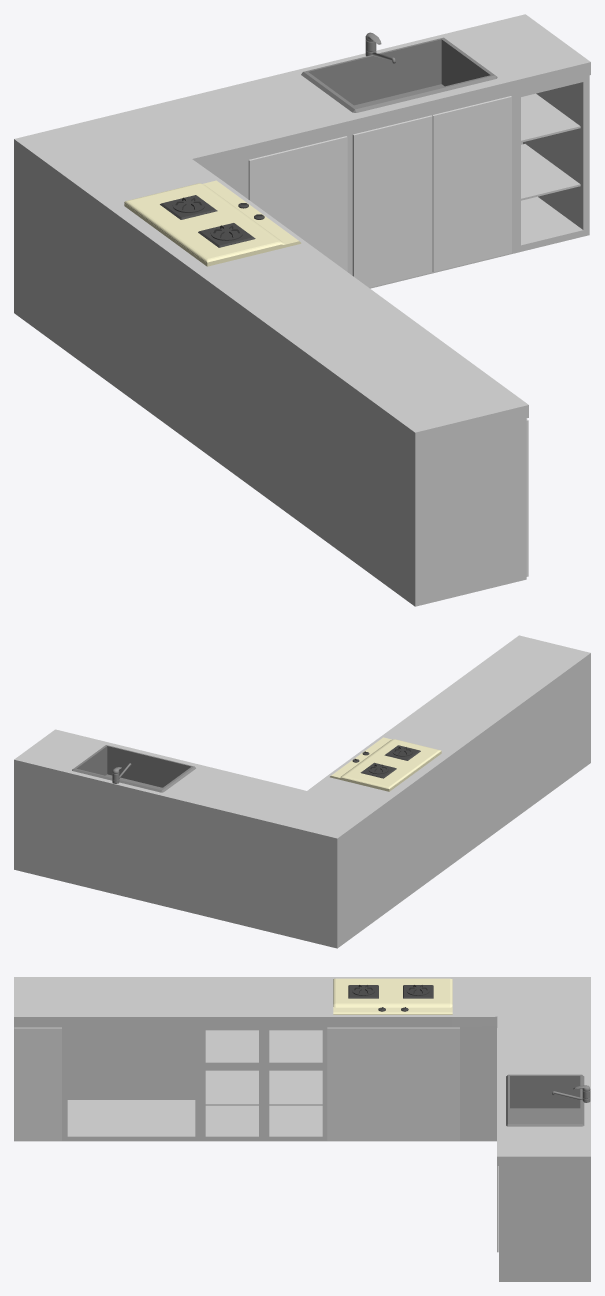
File: L2_F1_KR_Lshelf.fbx
3 renders of one model, top to bottom at view 1: azimuth 30°, elevation 25°; view 2: azimuth 150°, elevation 25°; view 3: azimuth 270°, elevation 25°, orthographic. The views are drawn at different scales.
Parts seen in each view (by area): view 1: L2_KR_LShelf_Body, L2_KR_CounterDoor.003, L2_KR_CounterDoor.004, L2_KR_CounterDoor.002, L2_KR_GasTop, L2_KR_Sink; view 2: L2_KR_LShelf_Body, L2_KR_GasTop, L2_KR_Sink; view 3: L2_KR_LShelf_Body, L2_KR_CounterDoor.001, L2_KR_CounterDoor, L2_KR_GasTop, L2_KR_Sink.
Part boxes in pixels (x1,y1,x2,y2): L2_KR_LShelf_Body: (14,14,590,606); L2_KR_CounterDoor.003: (352,115,432,287); L2_KR_CounterDoor.004: (432,96,511,271); L2_KR_CounterDoor.002: (248,136,347,271); L2_KR_GasTop: (124,180,301,266); L2_KR_Sink: (301,37,497,112); L2_KR_LShelf_Body: (14,635,590,948); L2_KR_GasTop: (330,737,441,791); L2_KR_Sink: (72,745,195,792); L2_KR_LShelf_Body: (14,977,590,1281); L2_KR_CounterDoor.001: (327,1027,459,1140); L2_KR_CounterDoor: (14,1027,61,1140); L2_KR_GasTop: (333,978,452,1014); L2_KR_Sink: (506,1074,584,1126).
Size of the model in its own units: 2.77 by 1.01 by 3.76.
